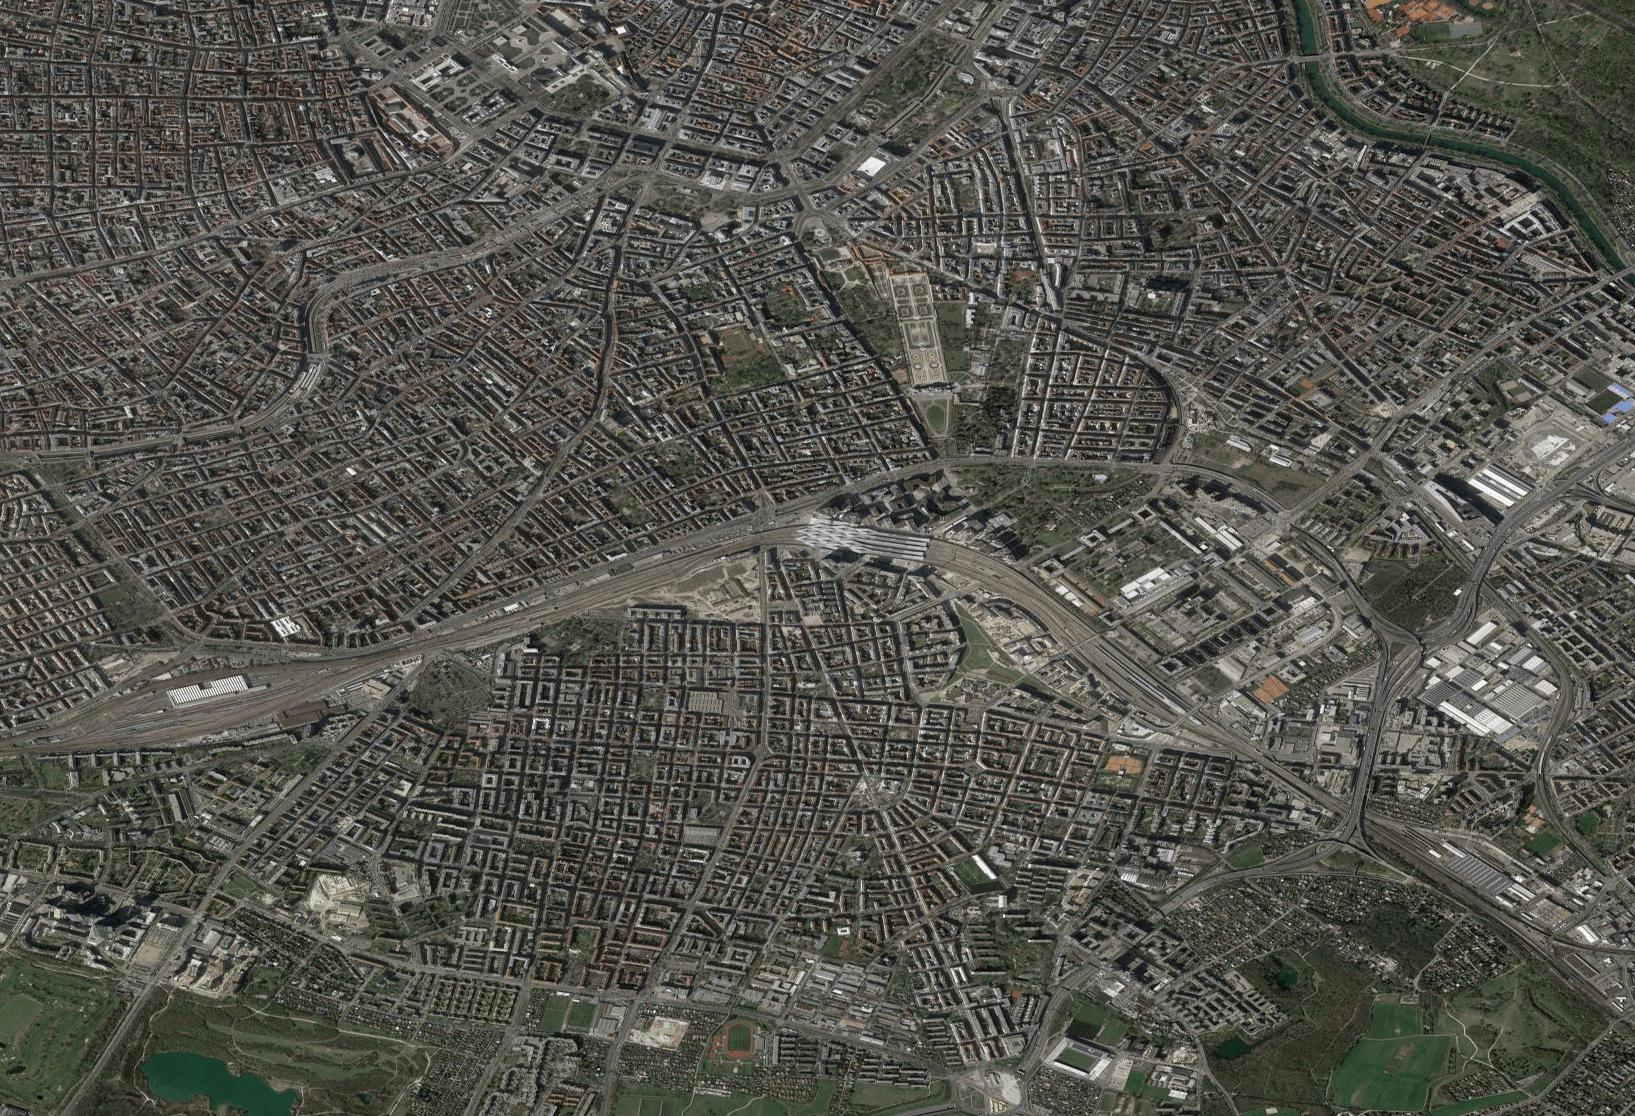train_station: (108, 664, 289, 744), (773, 503, 955, 575)
